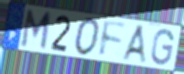2: (50, 15, 72, 54)
A: (120, 24, 149, 66)
F: (98, 19, 128, 59)
G: (149, 28, 175, 67)
M: (19, 9, 53, 53)
O: (73, 16, 102, 58)
